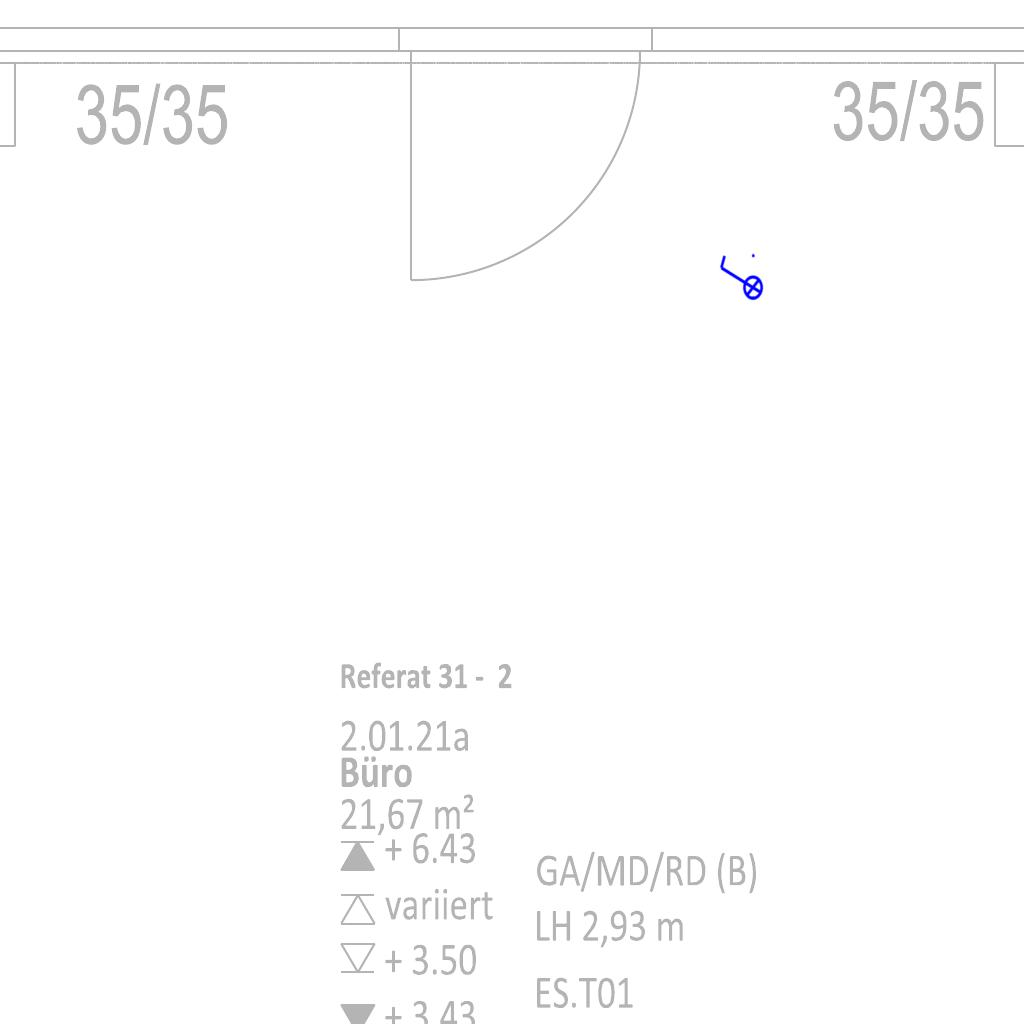Ausschalter_beleuchtet: (716, 251, 764, 307)
